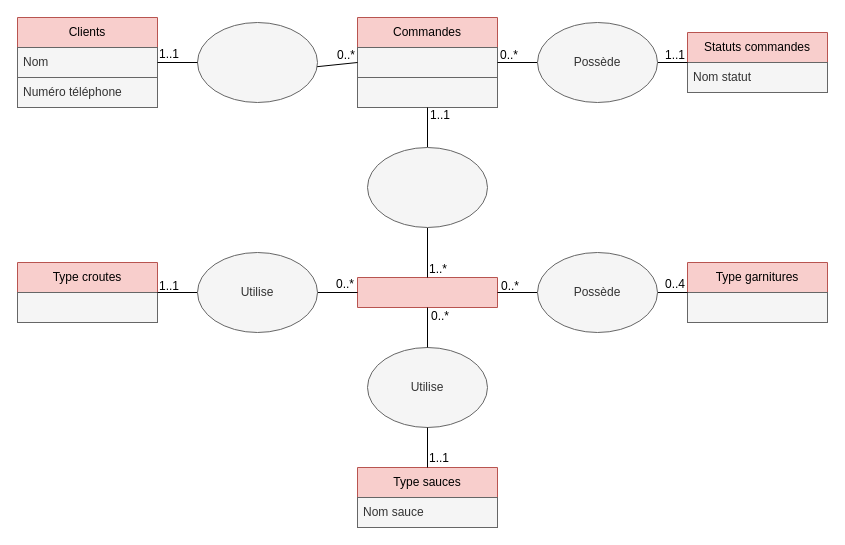
Some shapes in this 845 by 545 pixel diagram are drawn without their labels. Here are the shapes that lost their labels. From the top down, the centre of each, then its label:
At pixel 257 62: "Passe".
At pixel 427 62: "Adresse de livraison".
At pixel 427 92: "Date de commande".
At pixel 427 187: "Contient".
At pixel 87 307: "Nom croute".
At pixel 427 292: "Pizzas".
At pixel 757 307: "Nom garniture".
